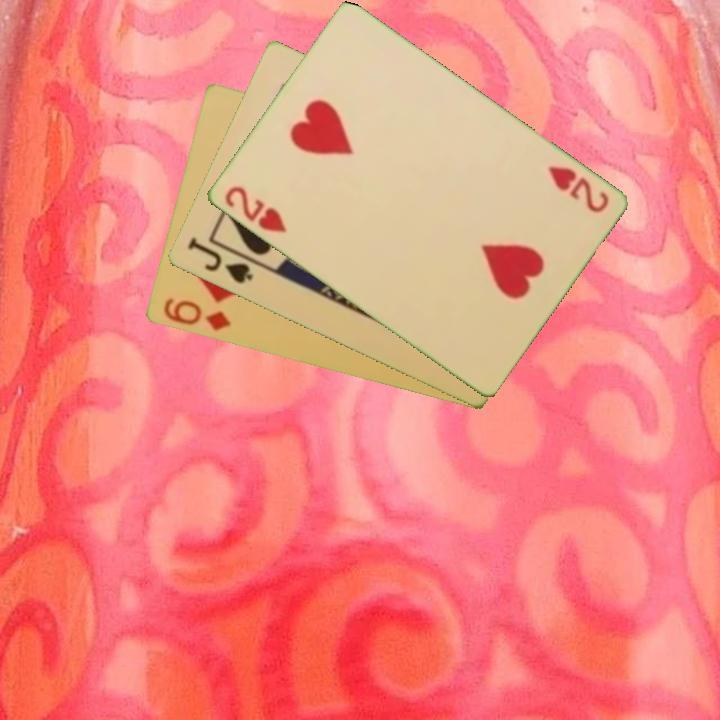2h: (220, 182, 289, 236), (543, 162, 612, 216)
6d: (159, 294, 233, 334)
Js: (183, 234, 256, 287)
